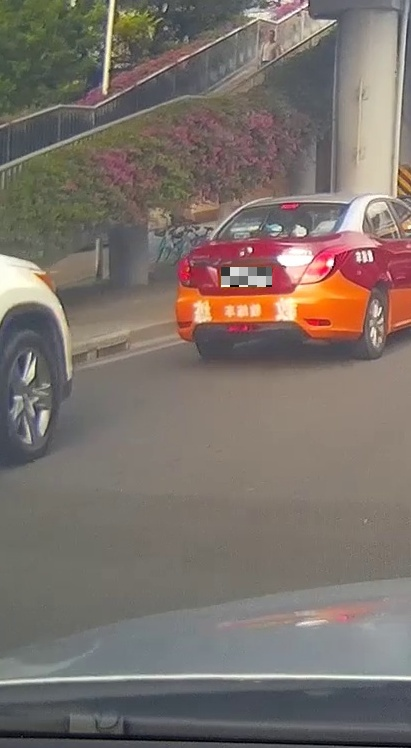L_light: (179, 256, 198, 288)
R_light: (298, 244, 353, 285)
T_light: (280, 203, 300, 209)
day-brake: (175, 193, 354, 357)
plate_1: (221, 267, 272, 287)
